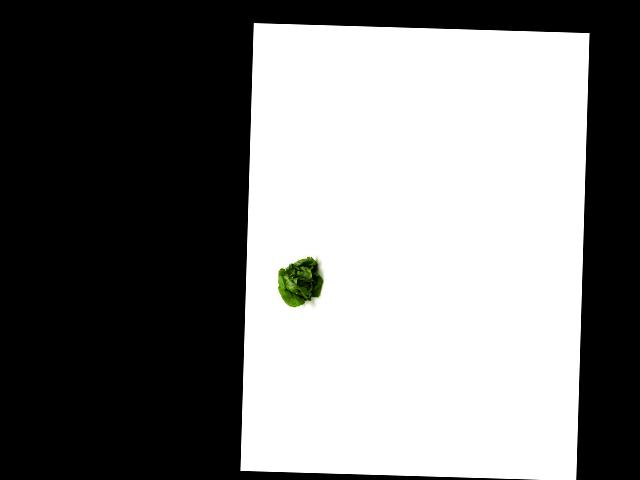lettuce: (273, 254, 326, 308)
